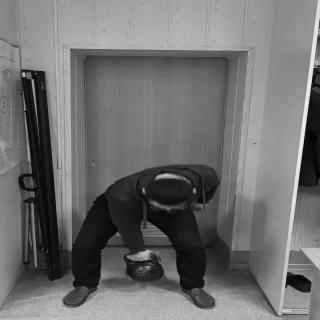kettlebell: (122, 252, 166, 284)
